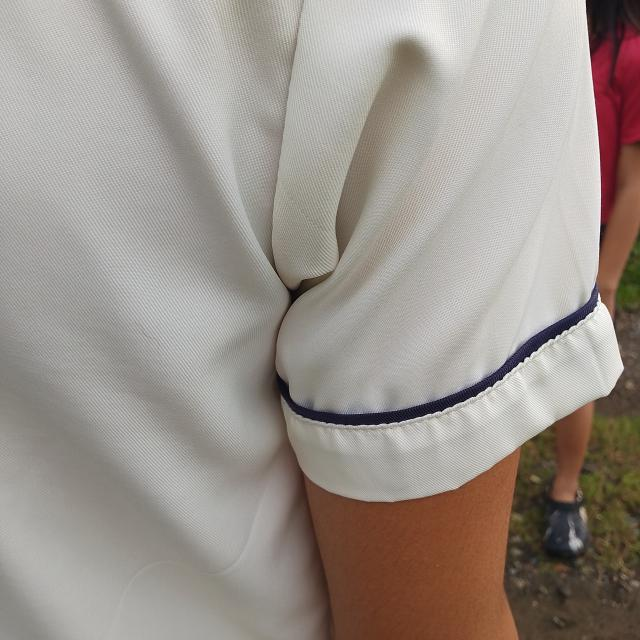education_male_uniform: (27, 0, 632, 558)
